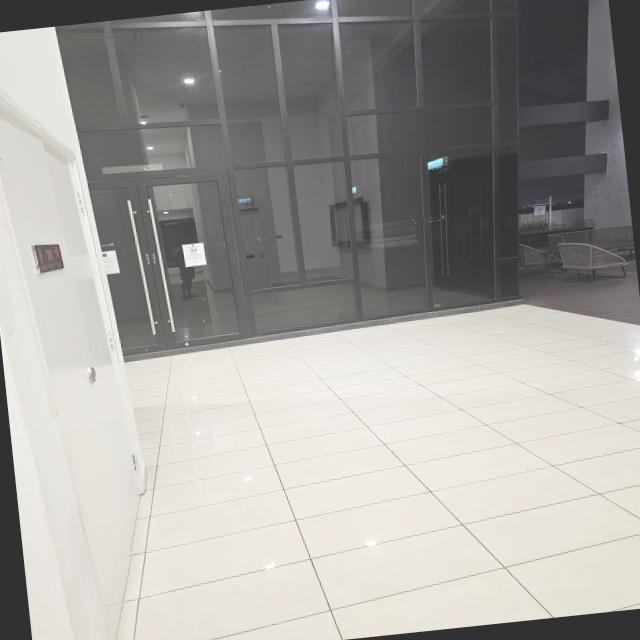door: (91, 164, 236, 364)
footpath: (158, 313, 640, 640)
obstacle: (552, 234, 632, 288), (514, 238, 564, 282)
